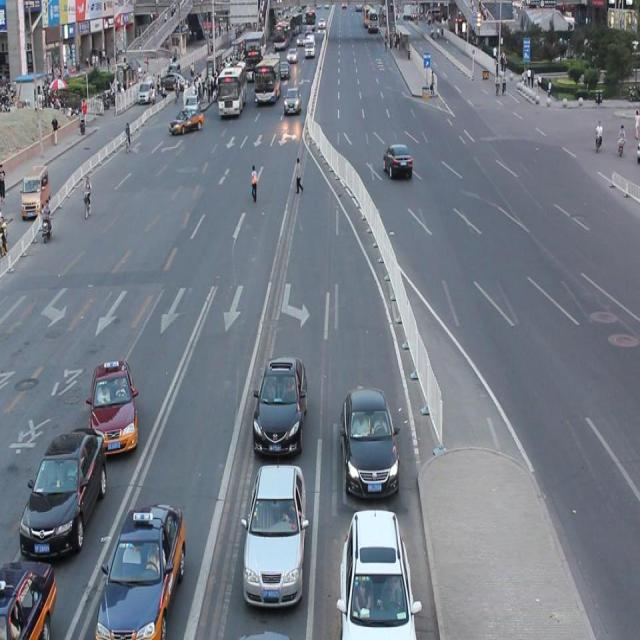car: (93, 501, 186, 640), (19, 426, 109, 562), (338, 508, 417, 640), (242, 461, 306, 610), (341, 385, 398, 499), (252, 354, 308, 460), (88, 360, 139, 459), (1, 558, 57, 640), (382, 142, 412, 178)
